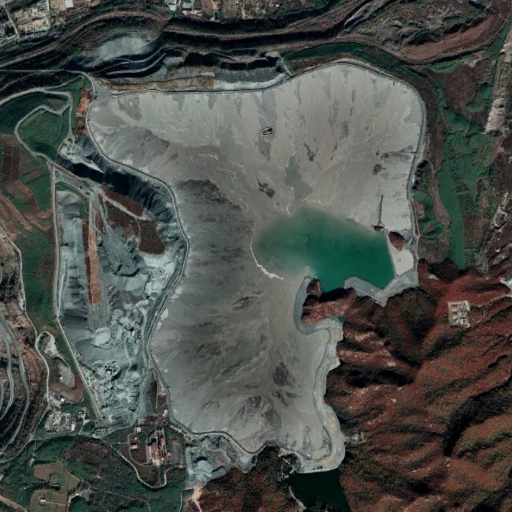tp: (83, 67, 427, 469)
